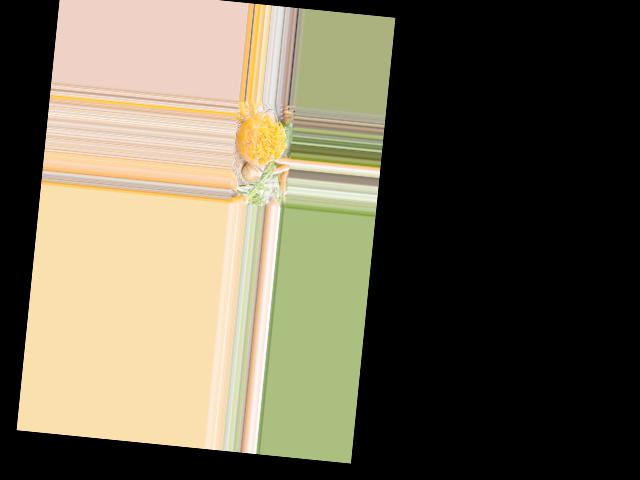carrot: (274, 157, 289, 164)
